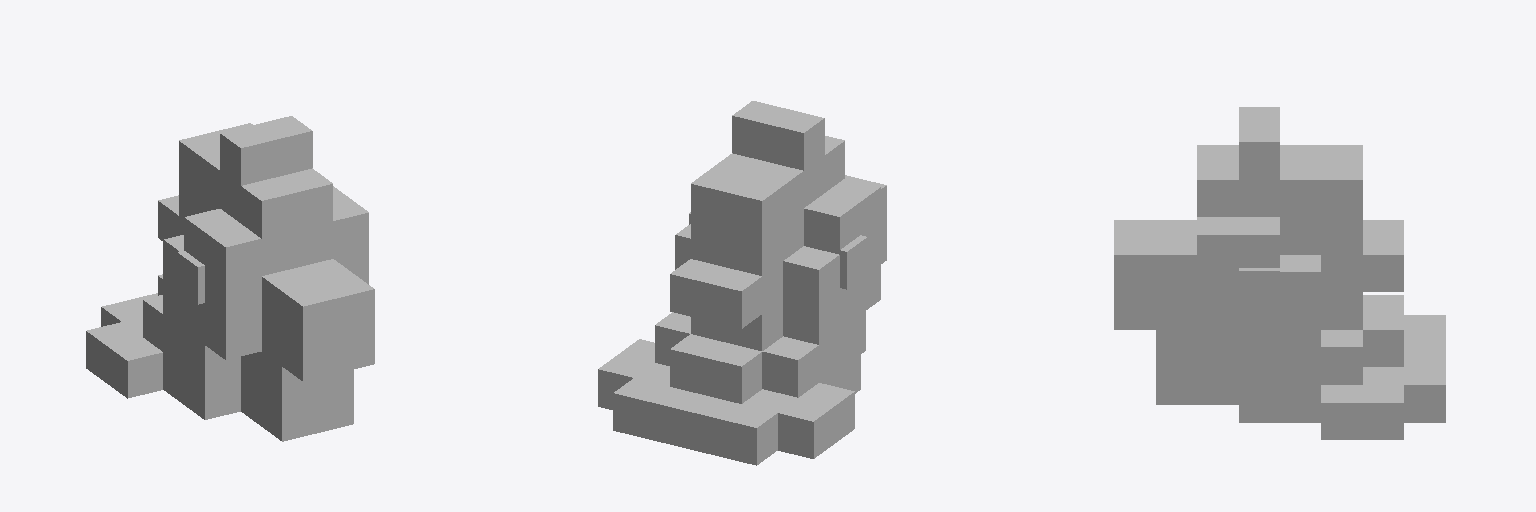
File: toriatama.obj
The picture shows the model from 3 angles: view 1: azimuth 30°, elevation 25°; view 2: azimuth 150°, elevation 25°; view 3: azimuth 270°, elevation 25°; orthographic projection.
Visible parts, largest first — view 1: 立方体.017; view 2: 立方体.017; view 3: 立方体.017.
Part boxes in pixels (left/top/right/bottom): 立方体.017: left=86, top=116, right=374, bottom=441; 立方体.017: left=598, top=101, right=886, bottom=465; 立方体.017: left=1114, top=107, right=1445, bottom=439.
Bounding box in the file's own units: 12 × 14 × 16.